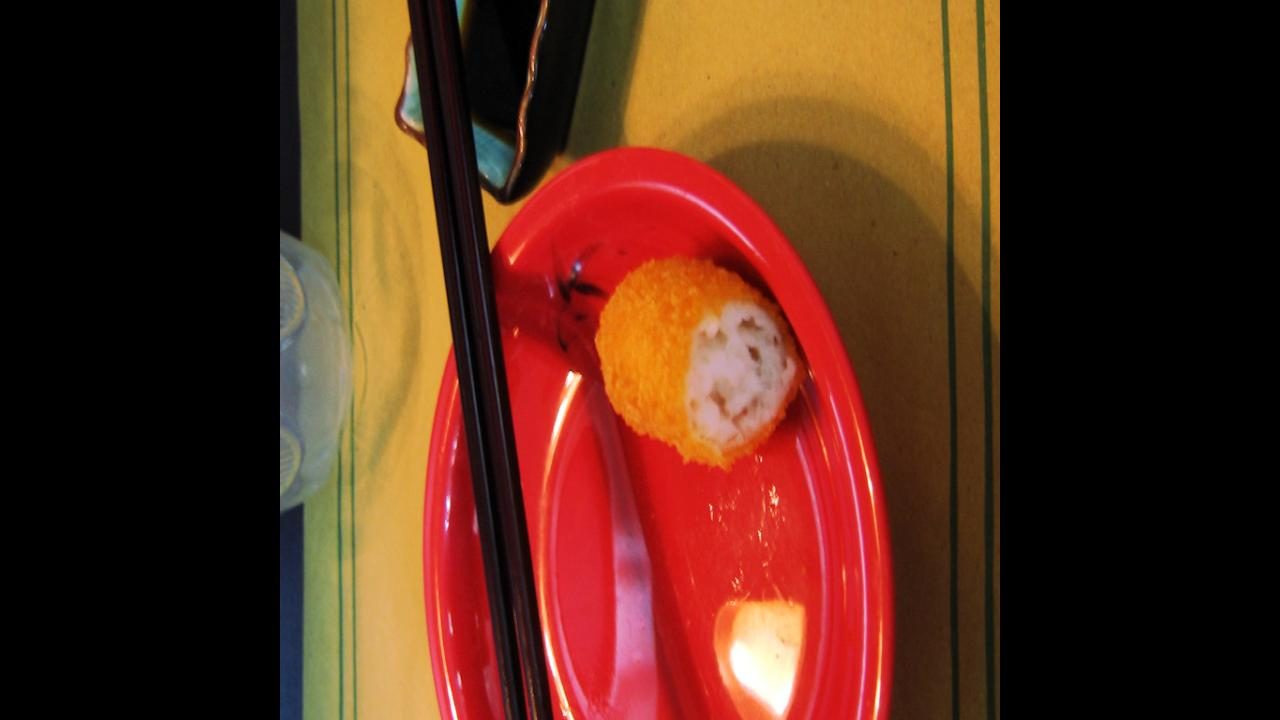chopstick: (378, 0, 574, 720)
